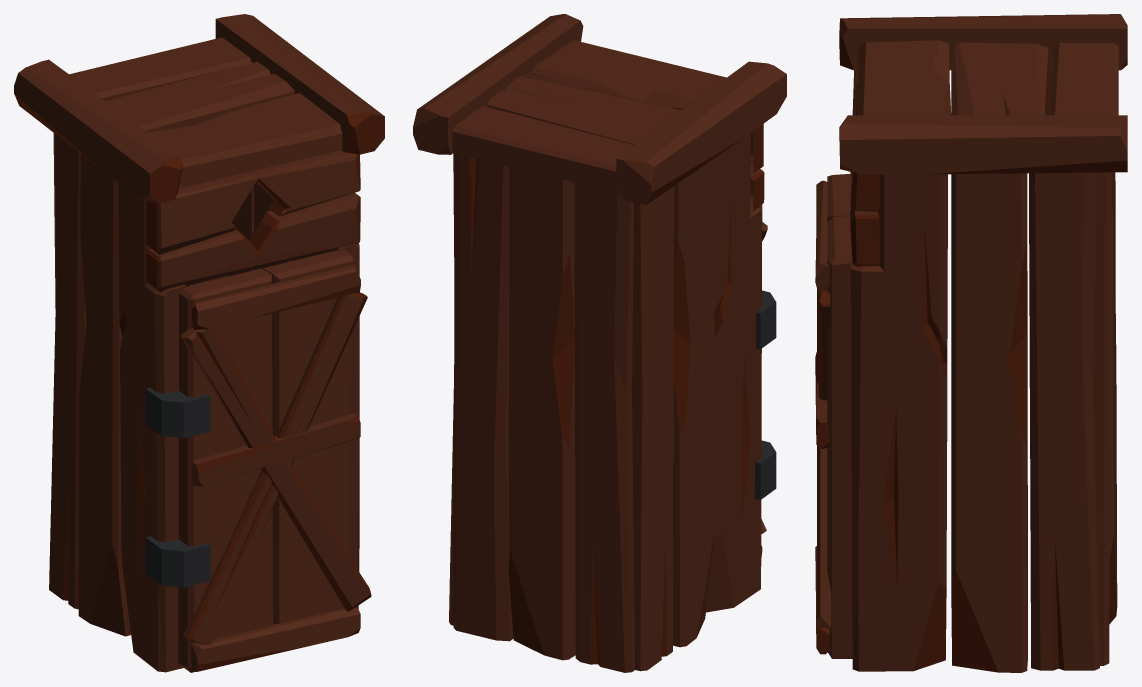
Rendered from Privy_1.fbx.
3 views of the same model, side by side, from view 1: azimuth 30°, elevation 25°; view 2: azimuth 150°, elevation 25°; view 3: azimuth 270°, elevation 25° (orthographic). The views are drawn at different scales.
Parts seen in each view (by area): view 1: Privy_1; view 2: Privy_1; view 3: Privy_1.
Part boxes in pixels (x1,y1,x2,y2): Privy_1: (14,14,384,672); Privy_1: (413,14,786,672); Privy_1: (815,14,1127,672).
Size of the model in its own units: 33.93 by 70.82 by 36.52.
